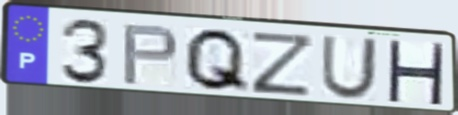3: (58, 17, 111, 87)
H: (384, 38, 448, 108)
P: (120, 23, 182, 87)
Q: (181, 26, 253, 96)
U: (318, 34, 381, 102)
Z: (249, 29, 318, 98)
